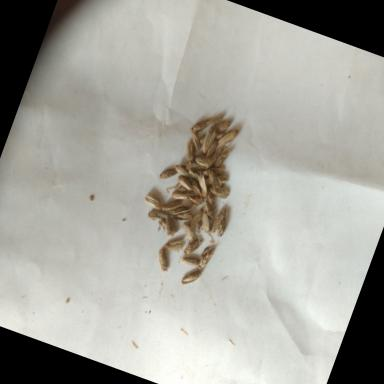pbw: (193, 204, 217, 234), (189, 112, 213, 138), (182, 233, 204, 260), (202, 168, 226, 192), (218, 124, 240, 150), (212, 208, 231, 238), (206, 142, 225, 172), (197, 244, 217, 272), (198, 128, 218, 156), (164, 232, 188, 255), (180, 266, 202, 290), (214, 143, 232, 171), (154, 248, 174, 273), (158, 162, 180, 184), (142, 191, 166, 211), (193, 173, 213, 197), (161, 196, 184, 216), (170, 201, 192, 220), (212, 118, 232, 138), (200, 198, 219, 219), (181, 138, 199, 160), (172, 208, 194, 226), (204, 162, 226, 180), (186, 208, 203, 231), (146, 208, 170, 224), (205, 110, 224, 130), (175, 174, 196, 192), (207, 184, 230, 200), (178, 222, 198, 240), (158, 218, 180, 234), (185, 158, 207, 174), (178, 252, 200, 268), (210, 211, 224, 235), (188, 132, 204, 152), (192, 154, 212, 170), (202, 188, 219, 206), (173, 164, 192, 180), (206, 138, 219, 161), (170, 190, 190, 204), (199, 245, 213, 262), (187, 194, 203, 206)
